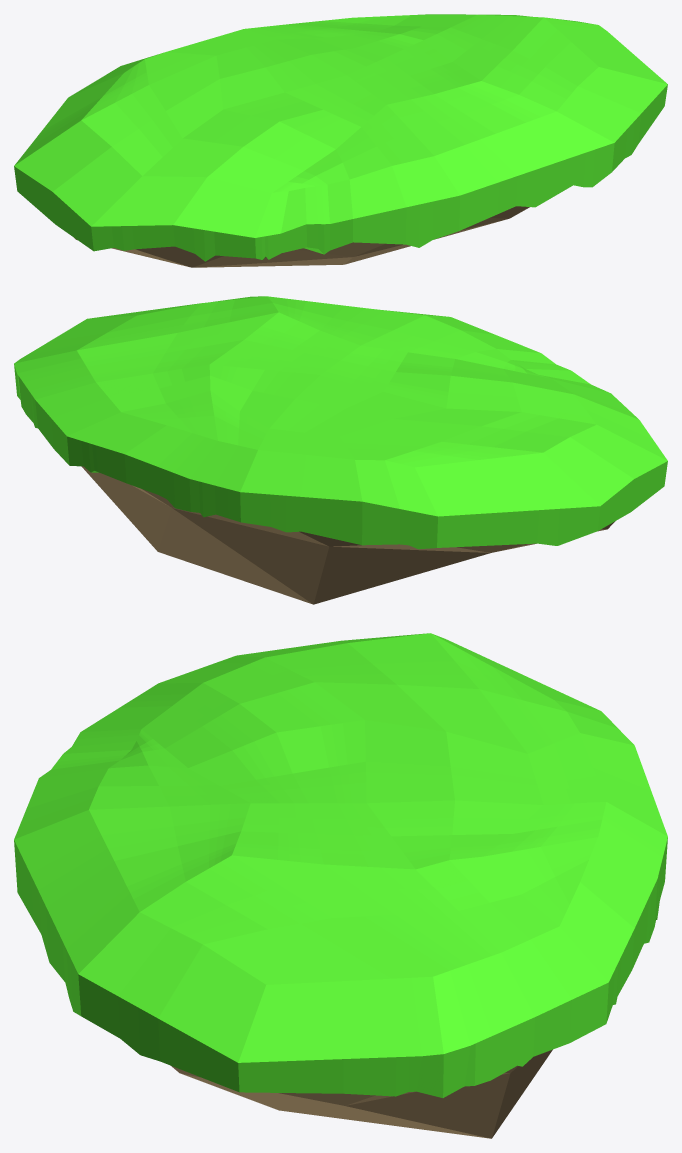
The model's file is Tierra.glb.
3 views of the same model, one above another, from view 1: azimuth 30°, elevation 25°; view 2: azimuth 150°, elevation 25°; view 3: azimuth 270°, elevation 25° (orthographic). The views are drawn at different scales.
Parts seen in each view (by area): view 1: Part 4, Part 5; view 2: Part 4, Part 5; view 3: Part 4, Part 5.
Boxes of the visible parts, bbox=[...] form: Part 4: bbox=[14, 14, 667, 261]; Part 5: bbox=[74, 206, 529, 267]; Part 4: bbox=[14, 296, 667, 549]; Part 5: bbox=[81, 466, 615, 604]; Part 4: bbox=[14, 633, 667, 1097]; Part 5: bbox=[171, 1049, 552, 1138].
Size of the model in its own units: 1.53 by 0.4632 by 1.02.
